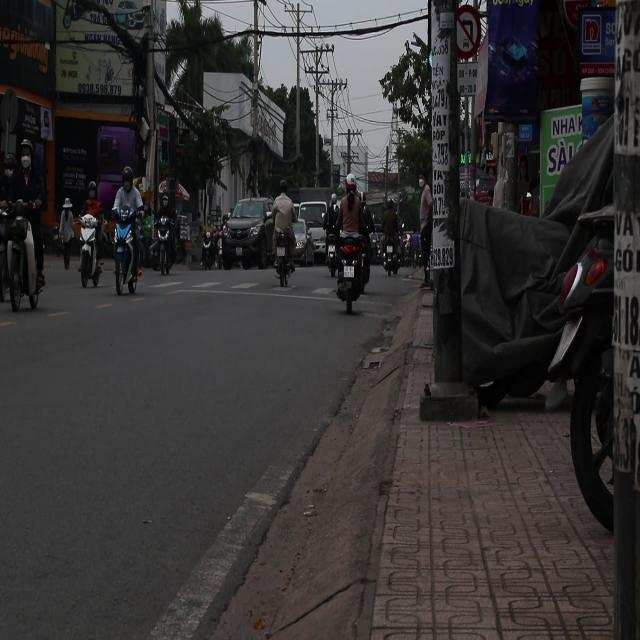car: (222, 198, 274, 260), (295, 202, 328, 264)
motorbike: (8, 196, 52, 313), (330, 228, 370, 311), (115, 206, 135, 310), (80, 202, 101, 295), (149, 219, 178, 276), (274, 235, 296, 288), (382, 230, 404, 276)
